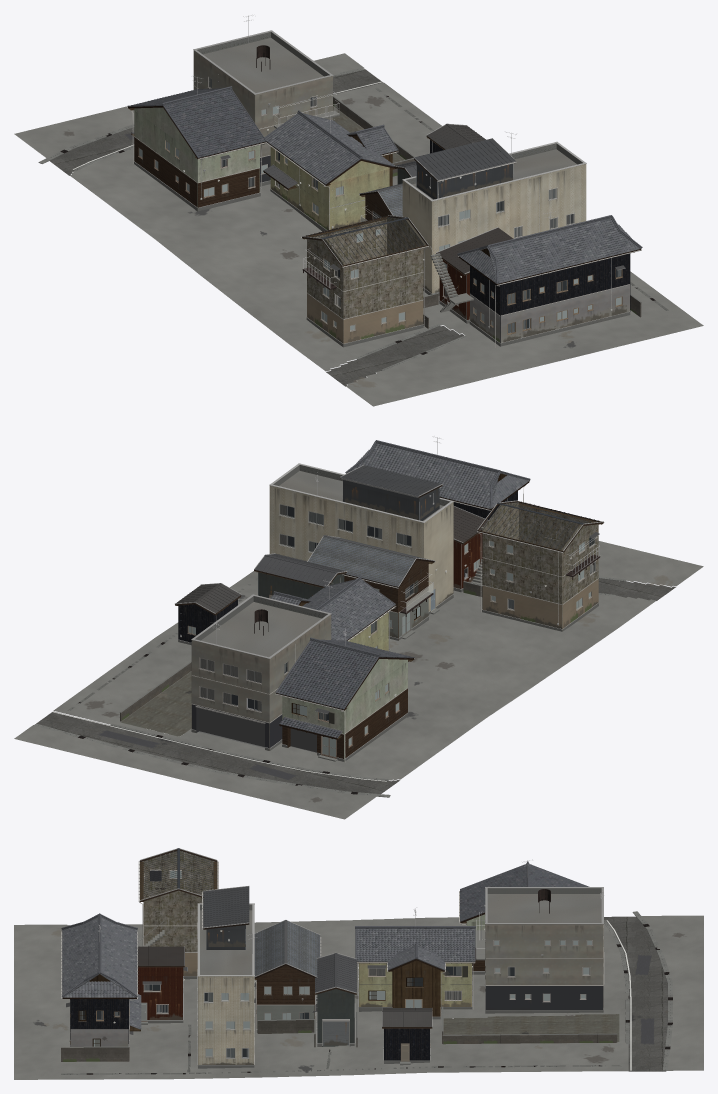
The model's file is block_B.gltf.
The picture shows the model from 3 angles, top to bottom: view 1: azimuth 30°, elevation 25°; view 2: azimuth 150°, elevation 25°; view 3: azimuth 270°, elevation 25°; orthographic projection. The views are drawn at different scales.
Visible parts, largest first — view 1: B_ground, B03_merchant_irimoya, B09_three_storey_wood, B01_white_tile_rc, B08_long_wood_shop, B06_cross_house_main, B07_three_storey_shop, B01b_penthouse, B04_annex_tin, B02_east_wing, B_walls, B10_rear_shed (+1 smaller); view 2: B_ground, B07_three_storey_shop, B09_three_storey_wood, B08_long_wood_shop, B01_white_tile_rc, B02_east_wing, B03_merchant_irimoya, B06_cross_house_main, B01b_penthouse, B05_workshop, B10_rear_shed, B04_annex_tin (+1 smaller); view 3: B_ground, B07_three_storey_shop, B03_merchant_irimoya, B01_white_tile_rc, B06_cross_house_main, B09_three_storey_wood, B02_east_wing, B_walls, B05_workshop, B04_annex_tin, B06b_cross_wing, B08_long_wood_shop (+2 smaller).
Part boxes in pixels (x1,y1,x2,y2): B_ground: (14, 53, 703, 406); B03_merchant_irimoya: (457, 211, 642, 347); B09_three_storey_wood: (301, 215, 428, 347); B01_white_tile_rc: (402, 131, 586, 312); B08_long_wood_shop: (127, 76, 266, 211); B06_cross_house_main: (263, 110, 396, 231); B07_three_storey_shop: (193, 15, 339, 186); B01b_penthouse: (413, 138, 516, 199); B04_annex_tin: (436, 227, 513, 323); B02_east_wing: (359, 183, 402, 222); B_walls: (333, 95, 641, 328); B10_rear_shed: (426, 123, 485, 153); B_ground: (14, 541, 703, 819); B07_three_storey_shop: (191, 594, 331, 750); B09_three_storey_wood: (477, 500, 604, 631); B08_long_wood_shop: (275, 627, 414, 762); B01_white_tile_rc: (269, 463, 483, 614); B02_east_wing: (307, 535, 435, 640); B03_merchant_irimoya: (345, 436, 530, 519); B06_cross_house_main: (302, 576, 396, 651); B01b_penthouse: (340, 465, 443, 520); B05_workshop: (254, 553, 347, 599); B10_rear_shed: (175, 583, 241, 645); B04_annex_tin: (453, 506, 488, 592); B_ground: (14, 911, 703, 1079); B07_three_storey_shop: (476, 887, 604, 1016); B03_merchant_irimoya: (61, 913, 141, 1060); B01_white_tile_rc: (138, 903, 257, 1068); B06_cross_house_main: (355, 907, 475, 1011); B09_three_storey_wood: (138, 848, 218, 979); B02_east_wing: (254, 920, 321, 1032); B_walls: (61, 1006, 617, 1061); B05_workshop: (312, 953, 356, 1046); B04_annex_tin: (138, 946, 187, 1024); B06b_cross_wing: (387, 943, 445, 1019); B08_long_wood_shop: (459, 859, 589, 974).
Size of the model in its own units: 36.17 by 13 by 66.
34 materials, 24 textured.
